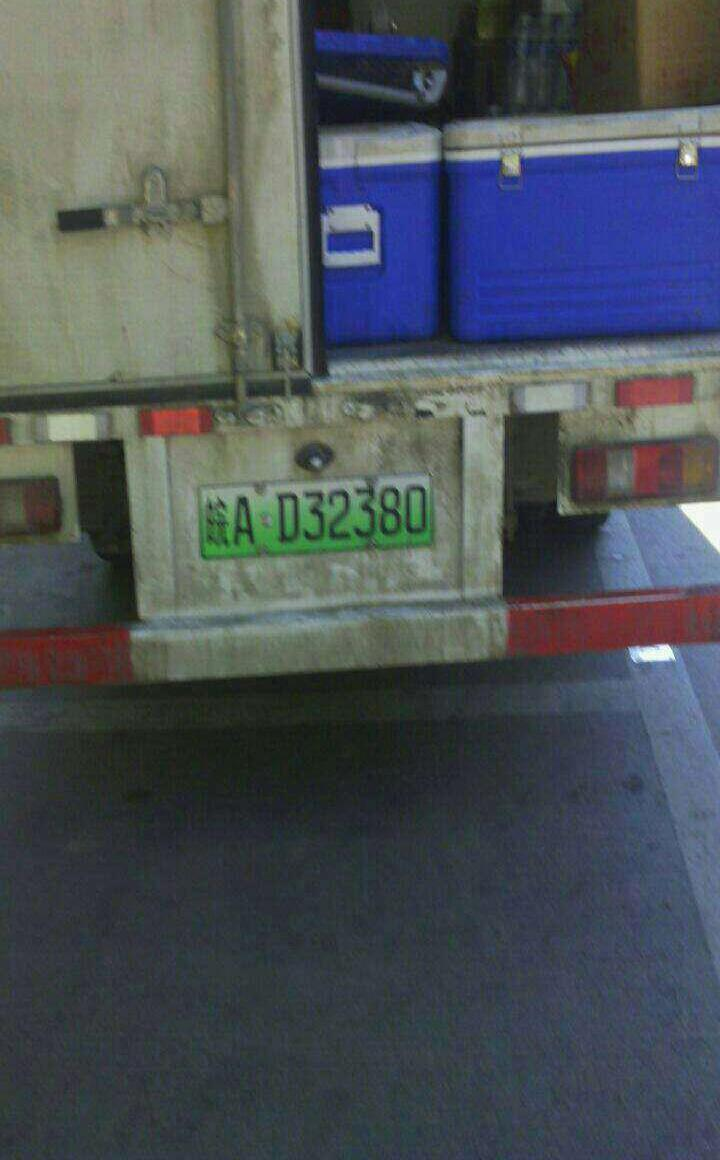car_id: (199, 478, 431, 552)
